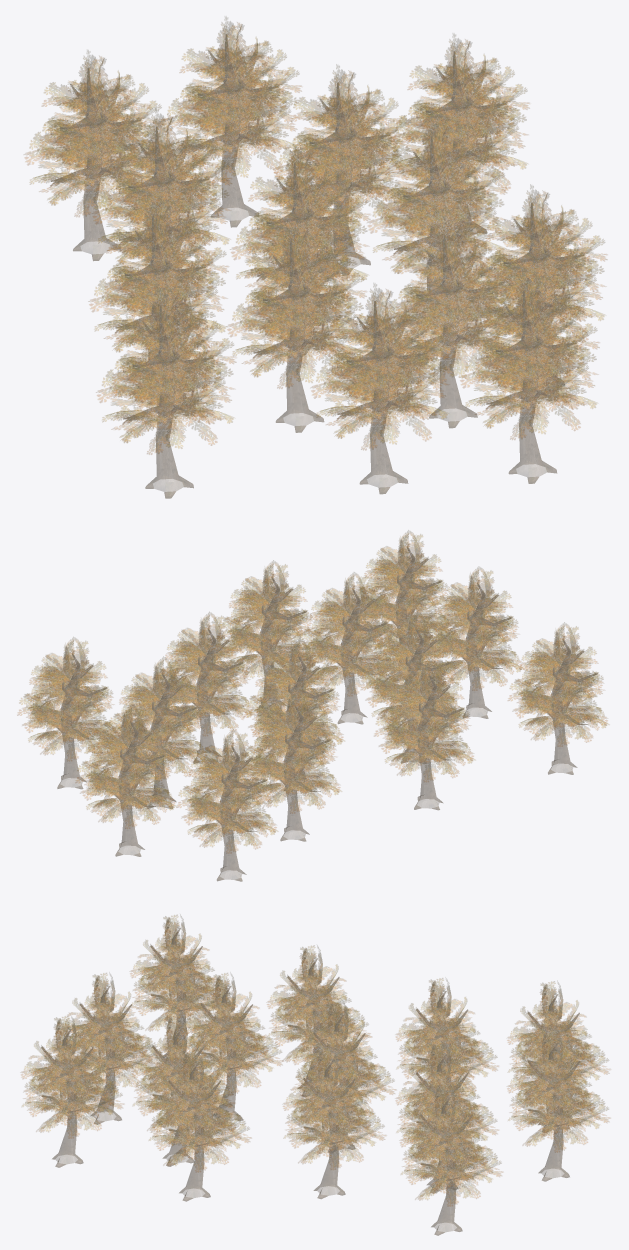
3 views of the same model, one above another, from view 1: azimuth 30°, elevation 25°; view 2: azimuth 150°, elevation 25°; view 3: azimuth 270°, elevation 25° (orthographic). The views are drawn at different scales.
Parts seen in each view (by area): view 1: tree-stylized-03-autumn-yellow_tree-branches-autumn-yellow-. (×12), tree-stylized-03-autumn-yellow_tree-branches-autumn-yellow-0, tree-stylized-03-autumn-yellow_tree-branches-autumn-yellow-, tree-stylized-03-autumn-yellow_tree-bark-03_0002.007, tree-stylized-03-autumn-yellow_tree-bark-03_0002.009, tree-stylized-03-autumn-yellow_tree-bark-03_0002.003, tree-stylized-03-autumn-yellow_tree-bark-03_0002.008, tree-stylized-03-autumn-yellow_tree-bark-03_0002.011, tree-stylized-03-autumn-yellow_tree-bark-03_0002, tree-stylized-03-autumn-yellow_tree-bark-03_0002.012, tree-stylized-03-autumn-yellow_tree-bark-03_0002.002, tree-stylized-03-autumn-yellow_tree-bark-03_0002.013 (+5 smaller); view 2: tree-stylized-03-autumn-yellow_tree-branches-autumn-yellow-. (×12), tree-stylized-03-autumn-yellow_tree-branches-autumn-yellow-0, tree-stylized-03-autumn-yellow_tree-branches-autumn-yellow-, tree-stylized-03-autumn-yellow_tree-bark-03_0002.004, tree-stylized-03-autumn-yellow_tree-bark-03_0002.001, tree-stylized-03-autumn-yellow_tree-bark-03_0002.009, tree-stylized-03-autumn-yellow_tree-bark-03_0002, tree-stylized-03-autumn-yellow_tree-bark-03_0002.007, tree-stylized-03-autumn-yellow_tree-bark-03_0002.006, tree-stylized-03-autumn-yellow_tree-bark-03_0002.003, tree-stylized-03-autumn-yellow_tree-bark-03_0002.012, tree-stylized-03-autumn-yellow_tree-bark-03_0002.013 (+4 smaller); view 3: tree-stylized-03-autumn-yellow_tree-branches-autumn-yellow-. (×12), tree-stylized-03-autumn-yellow_tree-branches-autumn-yellow-, tree-stylized-03-autumn-yellow_tree-branches-autumn-yellow-0, tree-stylized-03-autumn-yellow_tree-bark-03_0002.013, tree-stylized-03-autumn-yellow_tree-bark-03_0002.010, tree-stylized-03-autumn-yellow_tree-bark-03_0002, tree-stylized-03-autumn-yellow_tree-bark-03_0002.008, tree-stylized-03-autumn-yellow_tree-bark-03_0002.001, tree-stylized-03-autumn-yellow_tree-bark-03_0002.009, tree-stylized-03-autumn-yellow_tree-bark-03_0002.011, tree-stylized-03-autumn-yellow_tree-bark-03_0002.007, tree-stylized-03-autumn-yellow_tree-bark-03_0002.012 (+1 smaller).
Part boxes in pixels (x1,y1,x2,y2): tree-stylized-03-autumn-yellow_tree-branches-autumn-yellow-. (×12): [24, 50, 606, 454]; tree-stylized-03-autumn-yellow_tree-branches-autumn-yellow-0: [164, 17, 301, 182]; tree-stylized-03-autumn-yellow_tree-branches-autumn-yellow-: [392, 34, 529, 190]; tree-stylized-03-autumn-yellow_tree-bark-03_0002.007: [123, 305, 212, 498]; tree-stylized-03-autumn-yellow_tree-bark-03_0002.009: [337, 301, 426, 493]; tree-stylized-03-autumn-yellow_tree-bark-03_0002.003: [51, 68, 140, 260]; tree-stylized-03-autumn-yellow_tree-bark-03_0002.008: [486, 291, 576, 483]; tree-stylized-03-autumn-yellow_tree-bark-03_0002.011: [254, 239, 343, 432]; tree-stylized-03-autumn-yellow_tree-bark-03_0002: [194, 34, 278, 227]; tree-stylized-03-autumn-yellow_tree-bark-03_0002.012: [413, 235, 496, 427]; tree-stylized-03-autumn-yellow_tree-bark-03_0002.002: [310, 83, 389, 275]; tree-stylized-03-autumn-yellow_tree-bark-03_0002.013: [394, 136, 483, 312]; tree-stylized-03-autumn-yellow_tree-branches-autumn-yellow-. (×12): [108, 530, 608, 853]; tree-stylized-03-autumn-yellow_tree-branches-autumn-yellow-0: [75, 704, 176, 828]; tree-stylized-03-autumn-yellow_tree-branches-autumn-yellow-: [17, 637, 113, 761]; tree-stylized-03-autumn-yellow_tree-bark-03_0002.004: [280, 706, 330, 841]; tree-stylized-03-autumn-yellow_tree-bark-03_0002.001: [36, 654, 106, 788]; tree-stylized-03-autumn-yellow_tree-bark-03_0002.009: [462, 583, 512, 718]; tree-stylized-03-autumn-yellow_tree-bark-03_0002: [115, 721, 165, 856]; tree-stylized-03-autumn-yellow_tree-bark-03_0002.007: [548, 639, 597, 774]; tree-stylized-03-autumn-yellow_tree-bark-03_0002.006: [393, 674, 463, 809]; tree-stylized-03-autumn-yellow_tree-bark-03_0002.003: [196, 746, 266, 881]; tree-stylized-03-autumn-yellow_tree-bark-03_0002.012: [338, 589, 387, 724]; tree-stylized-03-autumn-yellow_tree-bark-03_0002.013: [193, 628, 242, 763]; tree-stylized-03-autumn-yellow_tree-branches-autumn-yellow-. (×12): [21, 915, 609, 1172]; tree-stylized-03-autumn-yellow_tree-branches-autumn-yellow-: [400, 1084, 502, 1206]; tree-stylized-03-autumn-yellow_tree-branches-autumn-yellow-0: [507, 1030, 609, 1152]; tree-stylized-03-autumn-yellow_tree-bark-03_0002.013: [303, 1060, 355, 1198]; tree-stylized-03-autumn-yellow_tree-bark-03_0002.010: [168, 1063, 220, 1201]; tree-stylized-03-autumn-yellow_tree-bark-03_0002: [528, 1043, 579, 1181]; tree-stylized-03-autumn-yellow_tree-bark-03_0002.008: [41, 1029, 93, 1167]; tree-stylized-03-autumn-yellow_tree-bark-03_0002.001: [420, 1097, 472, 1235]; tree-stylized-03-autumn-yellow_tree-bark-03_0002.009: [80, 986, 131, 1124]; tree-stylized-03-autumn-yellow_tree-bark-03_0002.011: [201, 986, 252, 1120]; tree-stylized-03-autumn-yellow_tree-bark-03_0002.007: [150, 928, 202, 1058]; tree-stylized-03-autumn-yellow_tree-bark-03_0002.012: [152, 1028, 203, 1166].
Bounding box in the file's own units: 23.31 × 7.47 × 27.59.
28 materials, 28 textured.
